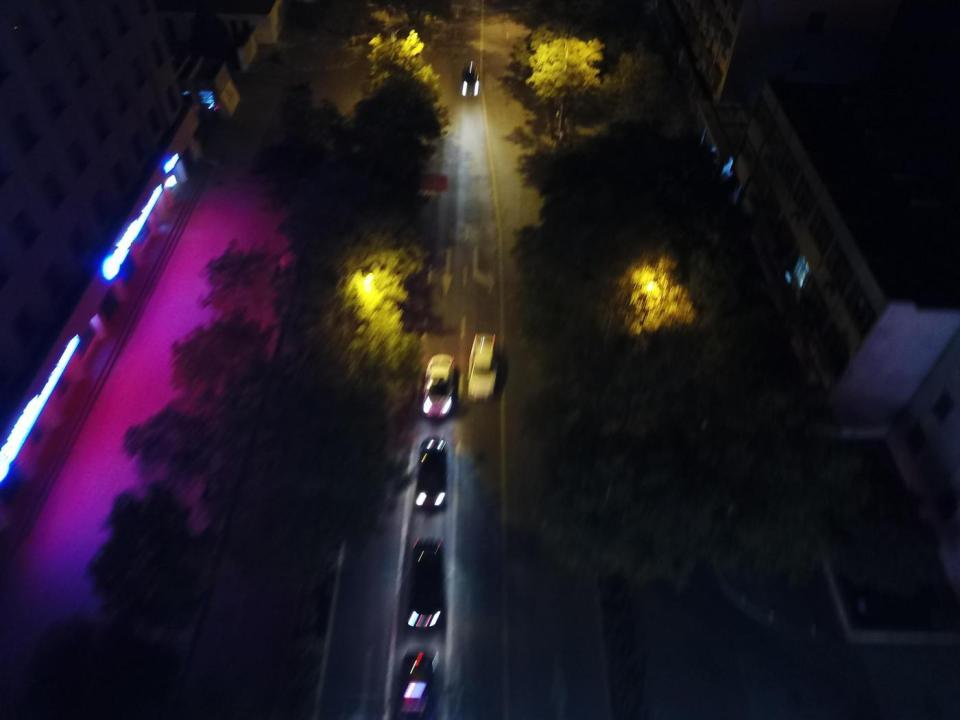car: (392, 649, 439, 720), (407, 538, 443, 630), (419, 352, 457, 415), (416, 438, 447, 509), (460, 56, 478, 96), (389, 20, 419, 40)
van: (467, 331, 496, 401)
